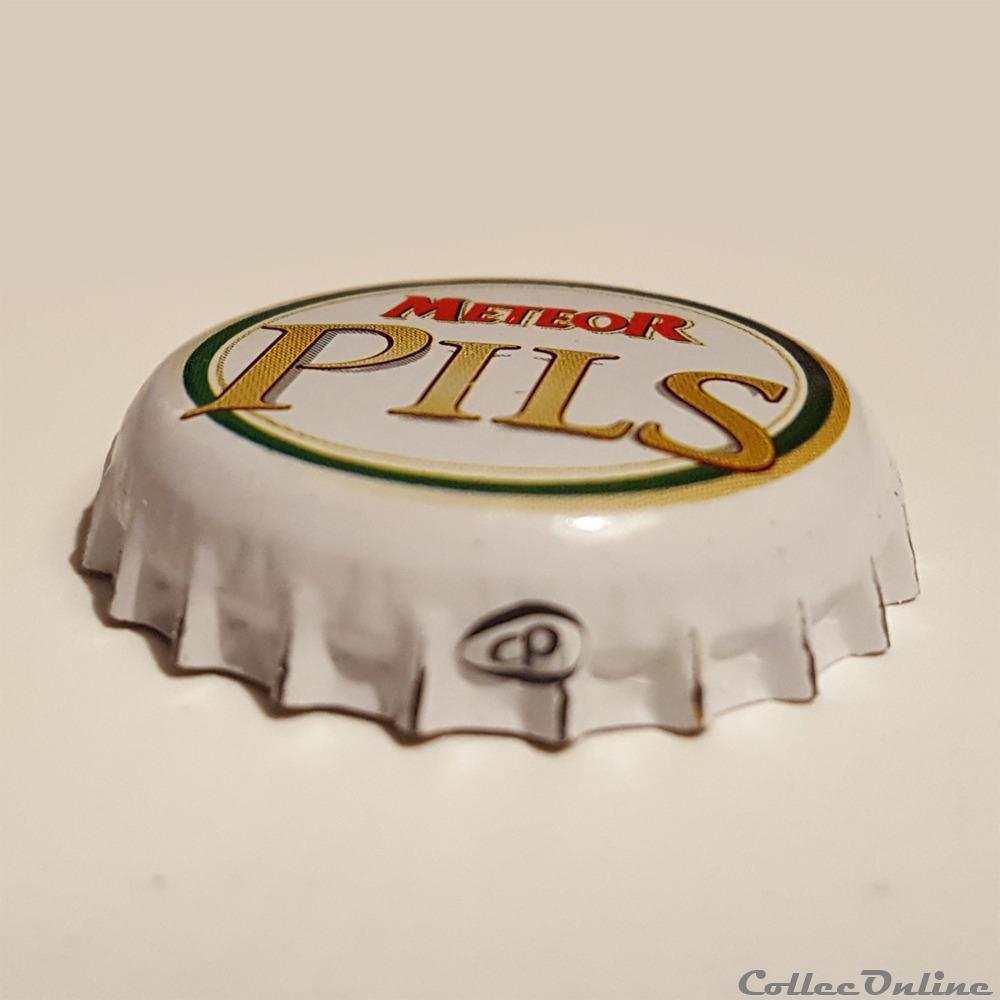metal: (81, 279, 920, 746)
